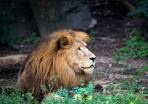lion: (3, 29, 97, 91)
